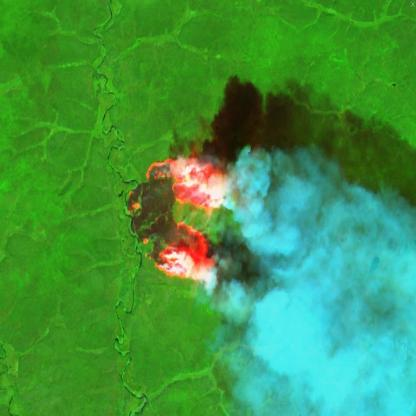fire: (122, 150, 241, 297)
